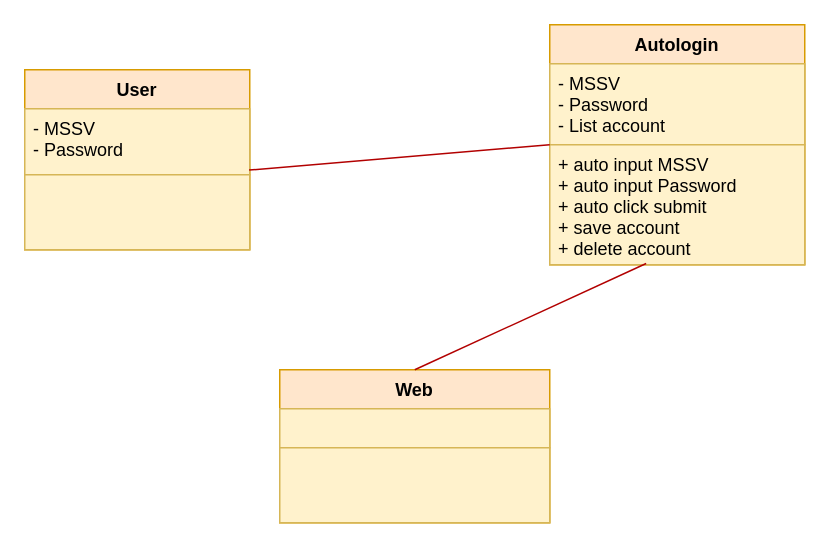
Image size: 830x548. Some labels were removed from this diagram. Here are the shapes that lost their labels. From the top down, the centre of each, then its label:
At (x=136, y=211): "+ input MSSV + input password".
At (x=414, y=427): "- Form Login".
At (x=414, y=484): "+ receive data from autologin".
